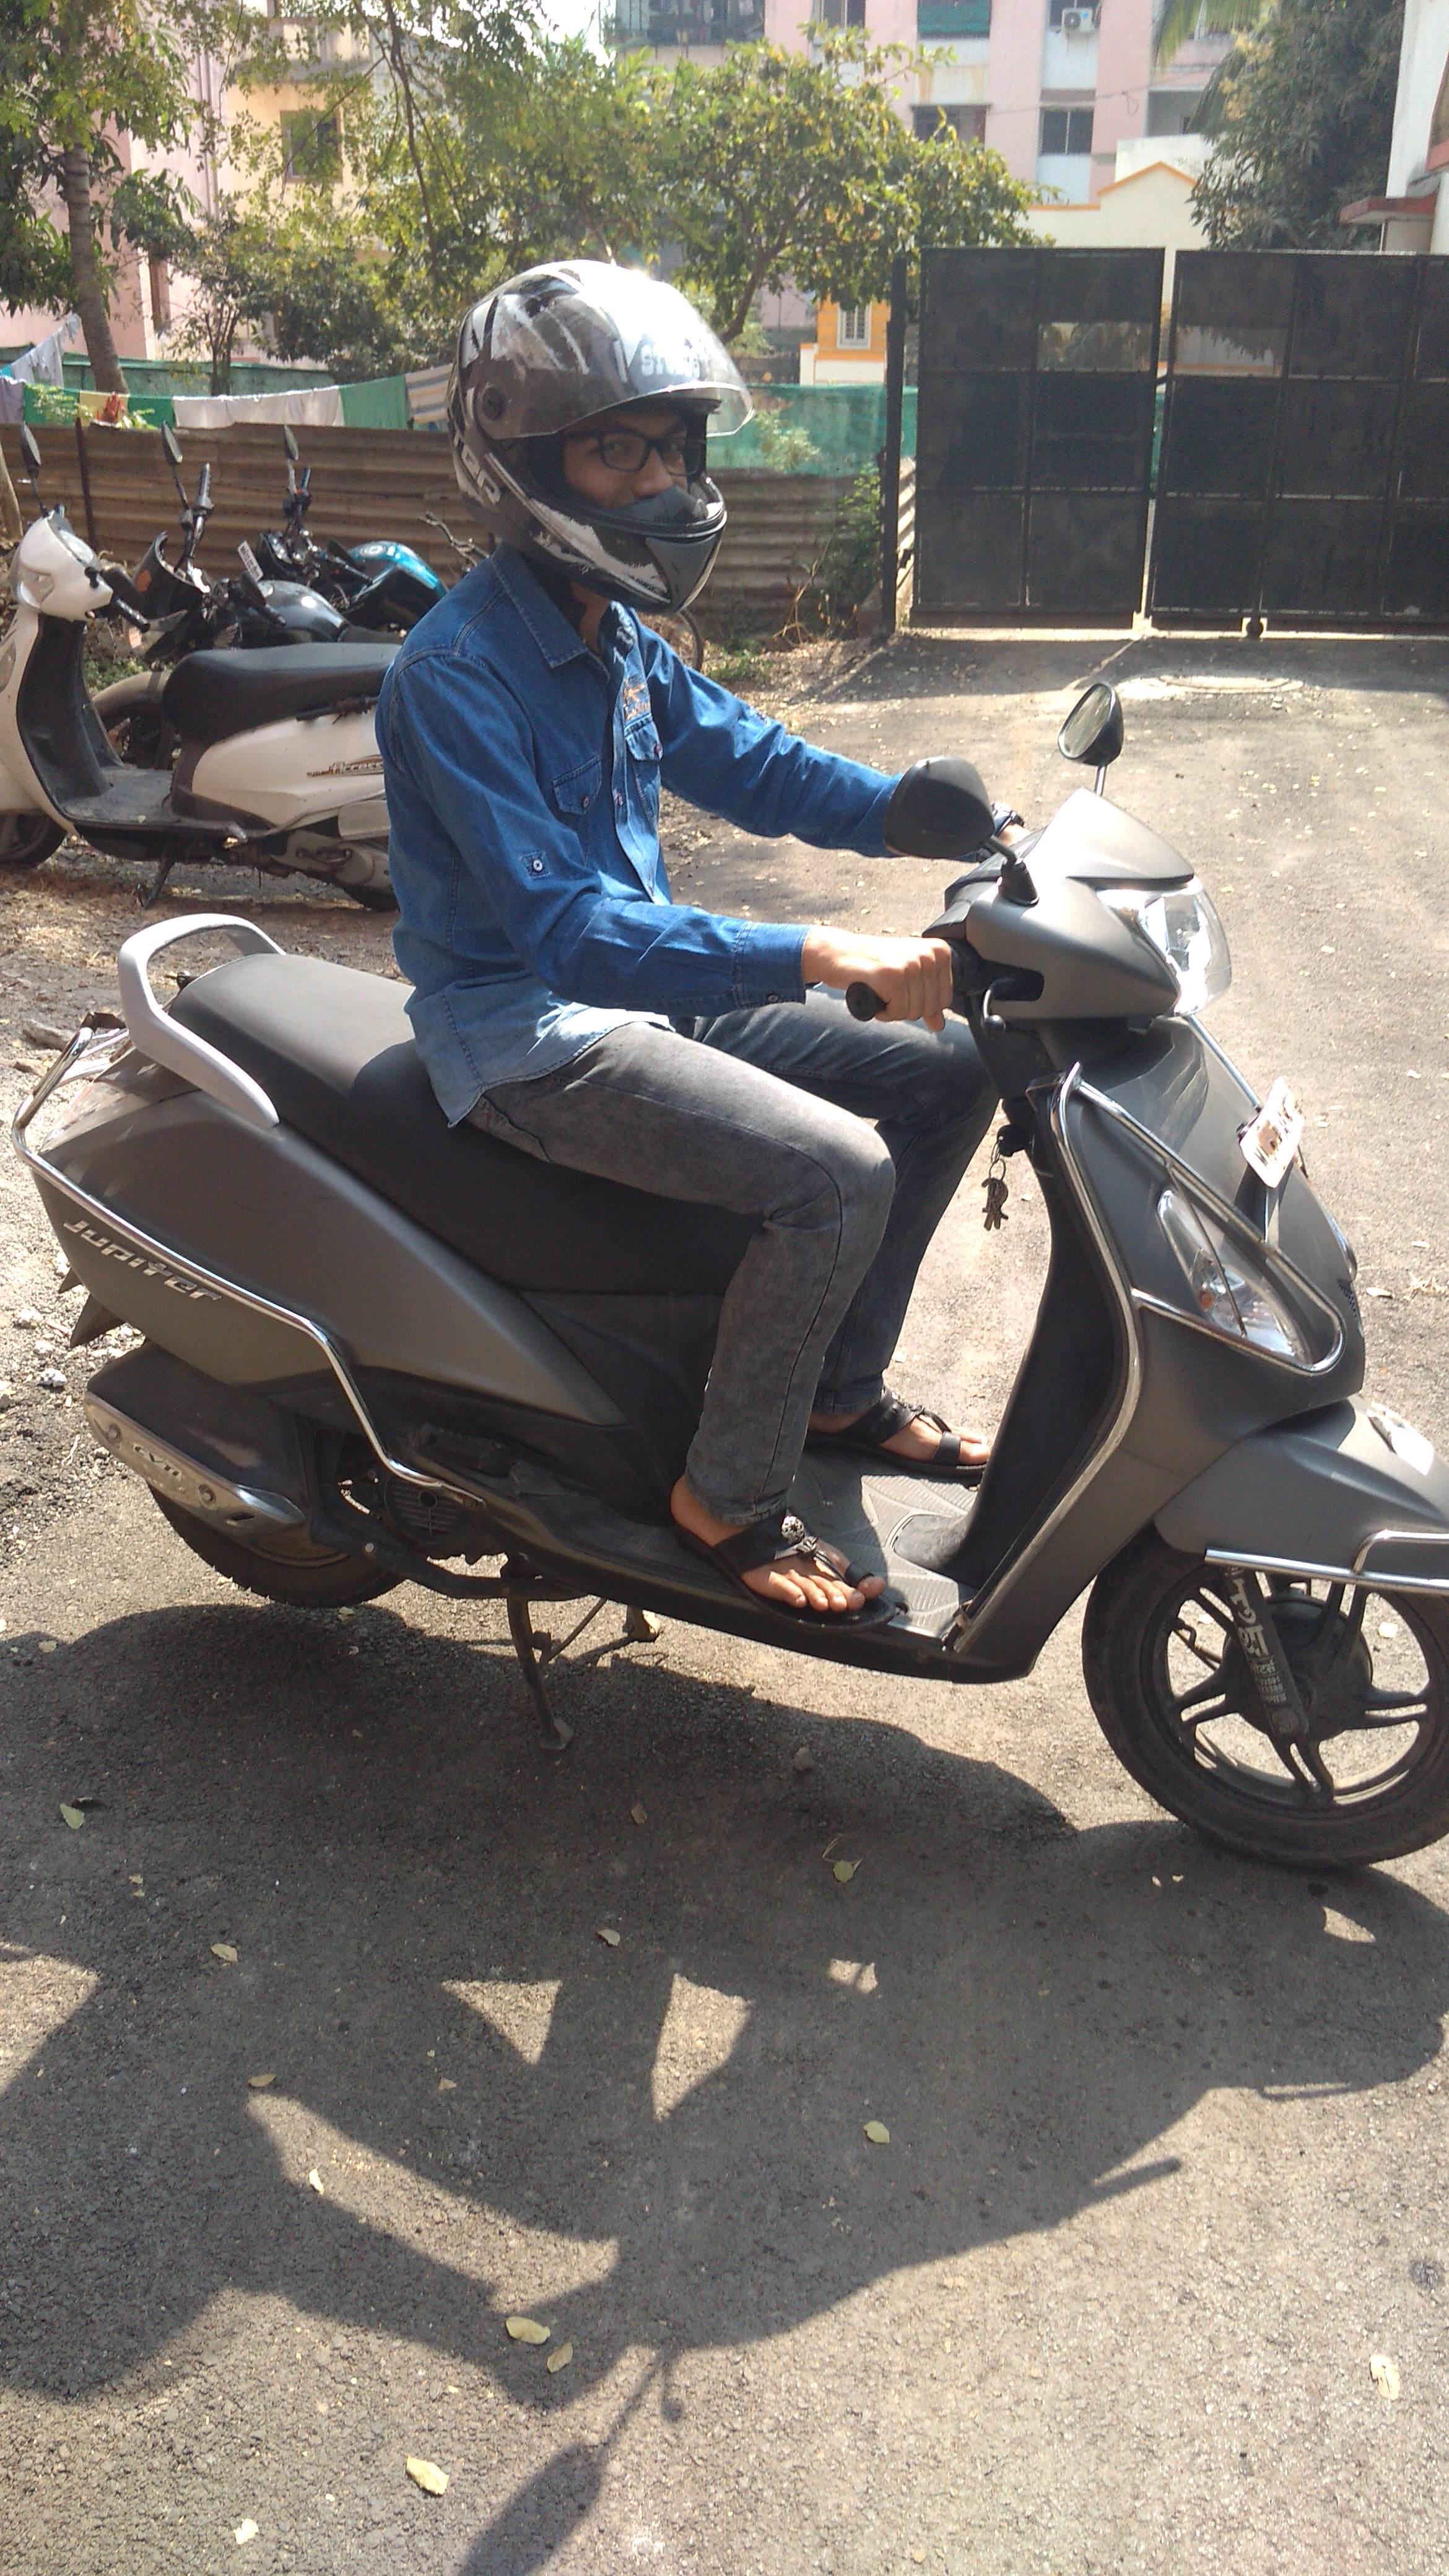helmet: (333, 239, 1104, 1718)
